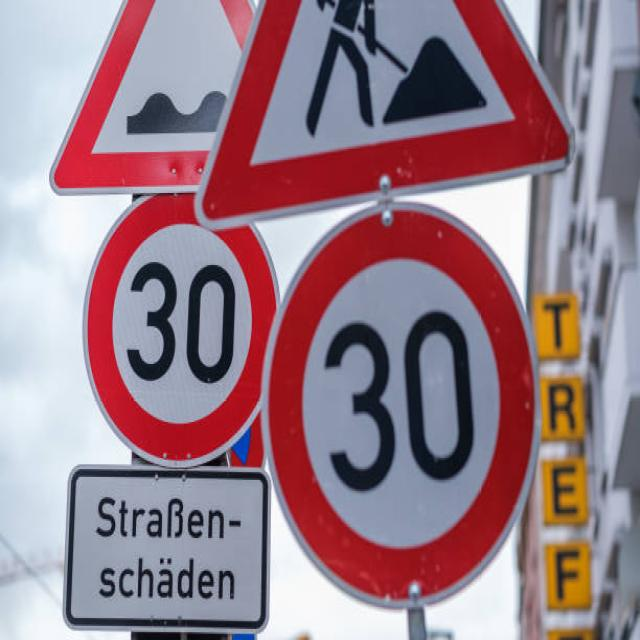Speed limit 30: (264, 199, 543, 611), (82, 190, 280, 469)
